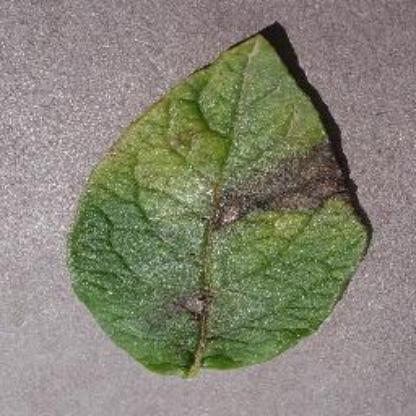Late-Blight: (74, 26, 379, 364)
